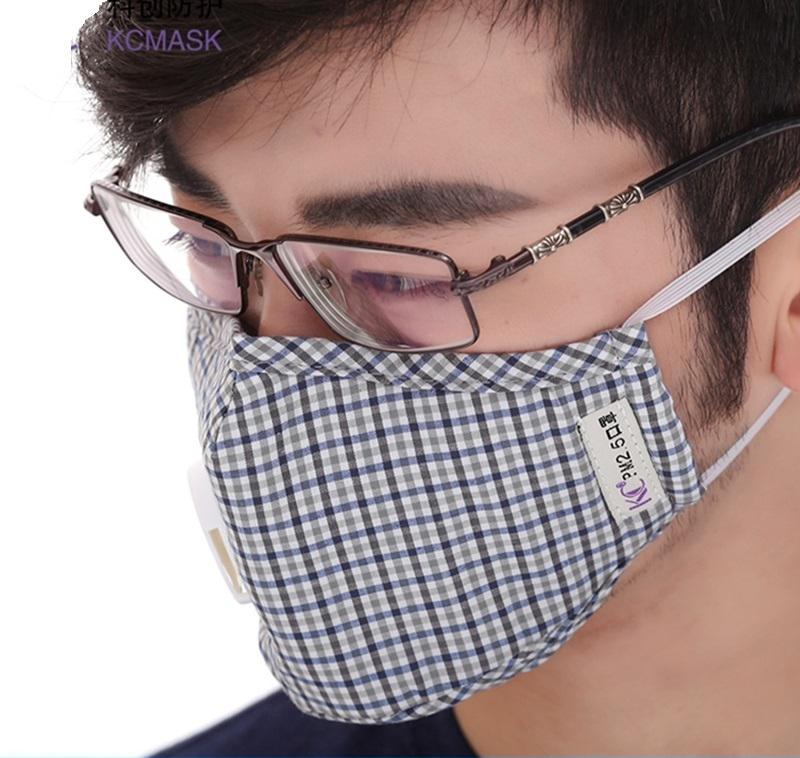OK: (114, 105, 723, 714)
